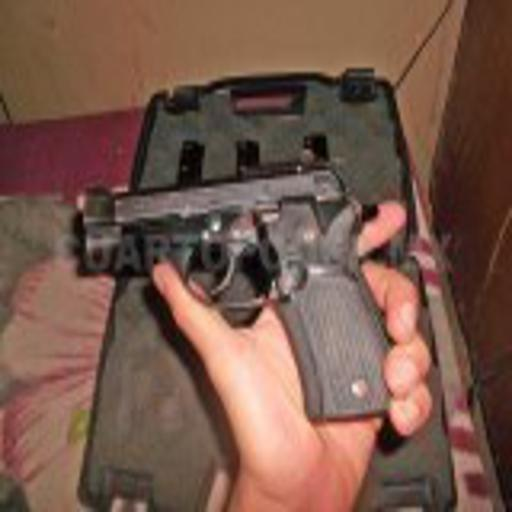Handgun: (72, 144, 399, 425)
